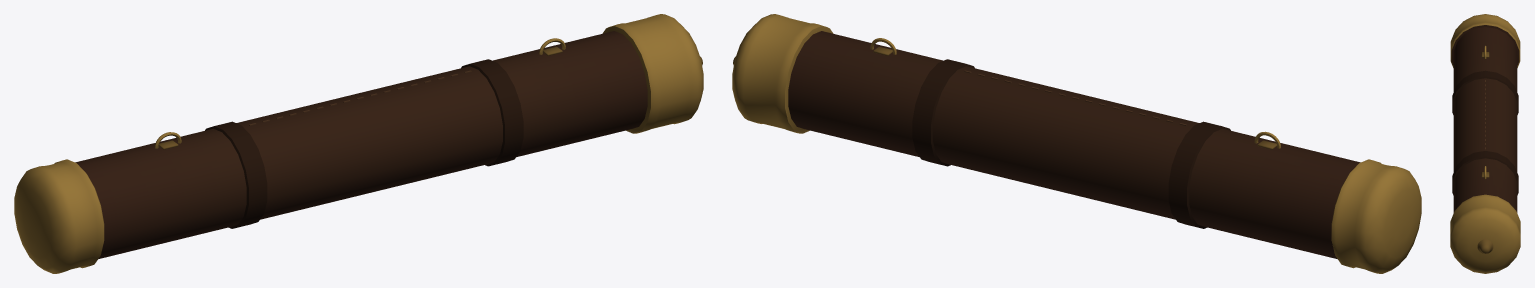
The model's file is map-case.glb.
3 renders of one model, left to right at view 1: azimuth 30°, elevation 25°; view 2: azimuth 150°, elevation 25°; view 3: azimuth 270°, elevation 25°, orthographic. The views are drawn at different scales.
Parts seen in each view (by area): view 1: base; view 2: base; view 3: base.
Part boxes in pixels (box(x1,y1,x2,y2)): base: box(14, 14, 703, 273); base: box(732, 14, 1421, 273); base: box(1450, 14, 1520, 273).
Bounding box in the file's own units: 0.5227 × 0.0815 × 0.0745.
